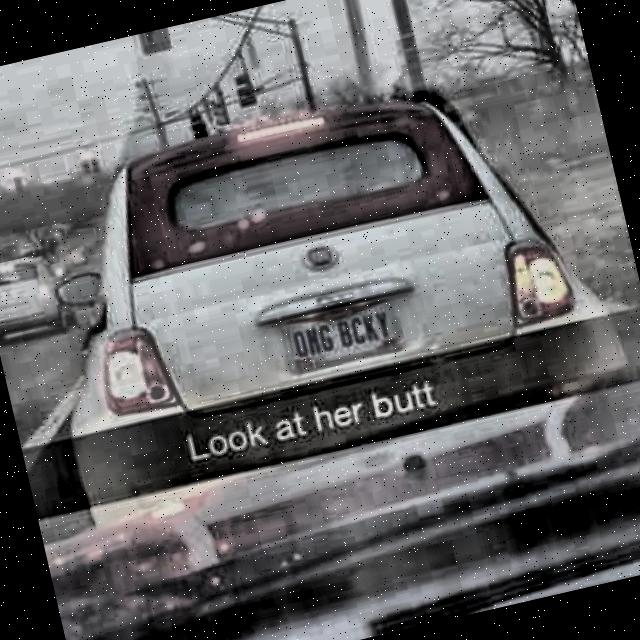license_plate: (278, 292, 407, 378)
